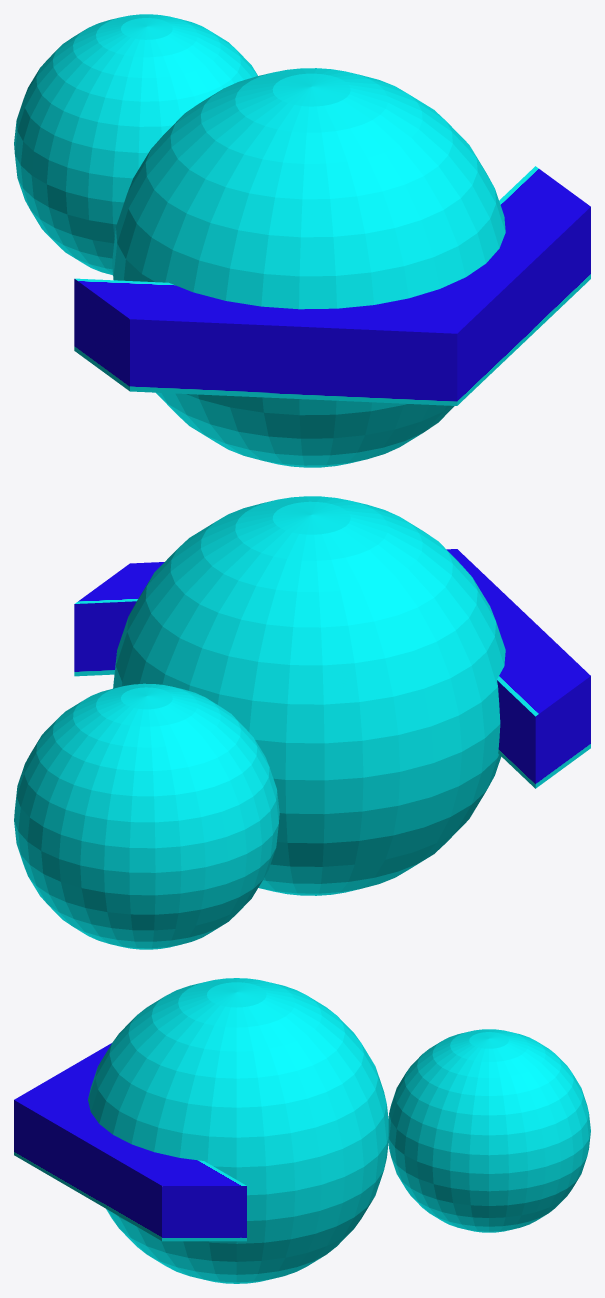
The model's file is Boss.obj.
3 views of the same model, one above another, from view 1: azimuth 30°, elevation 25°; view 2: azimuth 150°, elevation 25°; view 3: azimuth 270°, elevation 25° (orthographic). The views are drawn at different scales.
Parts seen in each view (by area): view 1: 球, 立方体, 球.001; view 2: 球, 球.001, 立方体; view 3: 球, 球.001, 立方体.
Part boxes in pixels (box(x1,y1,x2,y2)): 球: box(112, 68, 505, 467); 立方体: box(74, 166, 590, 405); 球.001: box(14, 14, 257, 275); 球: box(113, 496, 505, 895); 球.001: box(14, 683, 279, 949); 立方体: box(74, 549, 590, 788); 球: box(88, 978, 388, 1283); 球.001: box(388, 1029, 590, 1232); 立方体: box(14, 1043, 246, 1241).
Size of the model in its own units: 4 by 3.01 by 5.66.
1 material, 1 textured.
